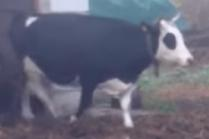cow: (8, 12, 194, 132)
